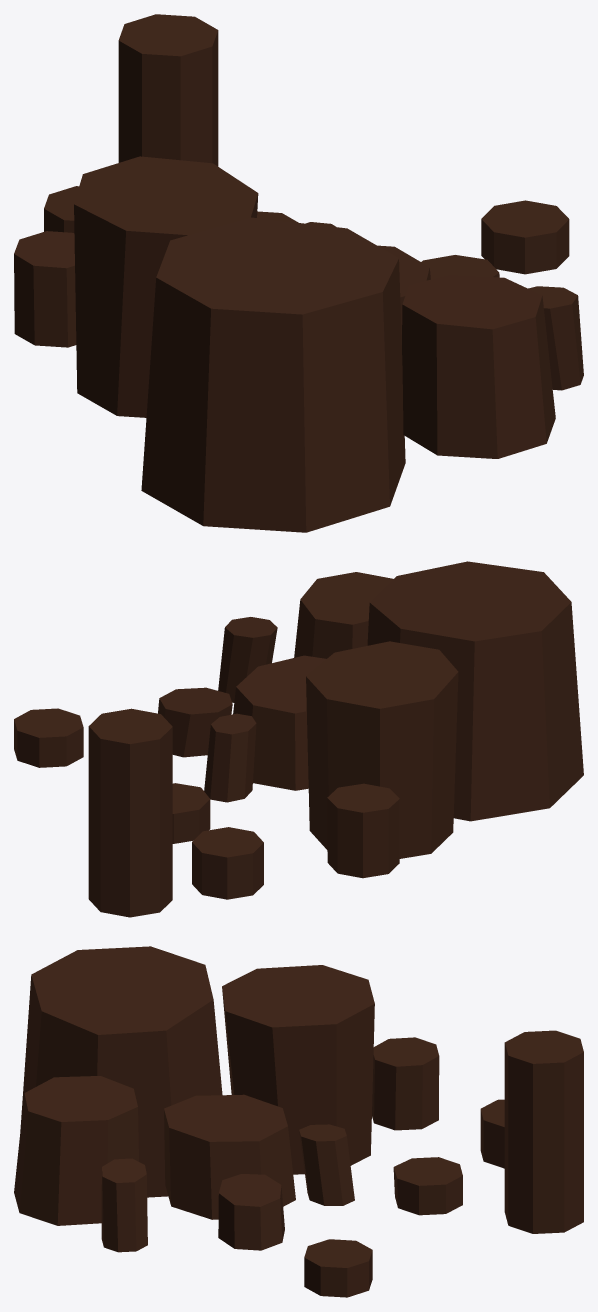
Rendered from kamienie_2.fbx.
3 renders of one model, top to bottom at view 1: azimuth 30°, elevation 25°; view 2: azimuth 150°, elevation 25°; view 3: azimuth 270°, elevation 25°, orthographic. The views are drawn at different scales.
Parts seen in each view (by area): view 1: Cylinder.000; view 2: Cylinder.000; view 3: Cylinder.000.
Part boxes in pixels (x1,y1,x2,y2): Cylinder.000: [14, 14, 583, 532]; Cylinder.000: [14, 561, 583, 917]; Cylinder.000: [14, 946, 583, 1297].
Size of the model in its own units: 2218 by 841 by 2549.
